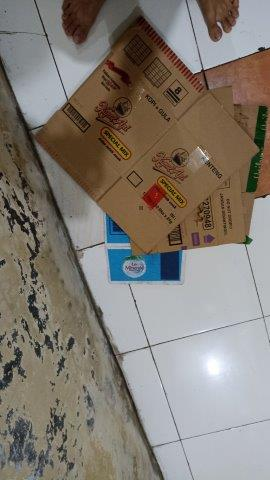kardus: (38, 17, 267, 282)
